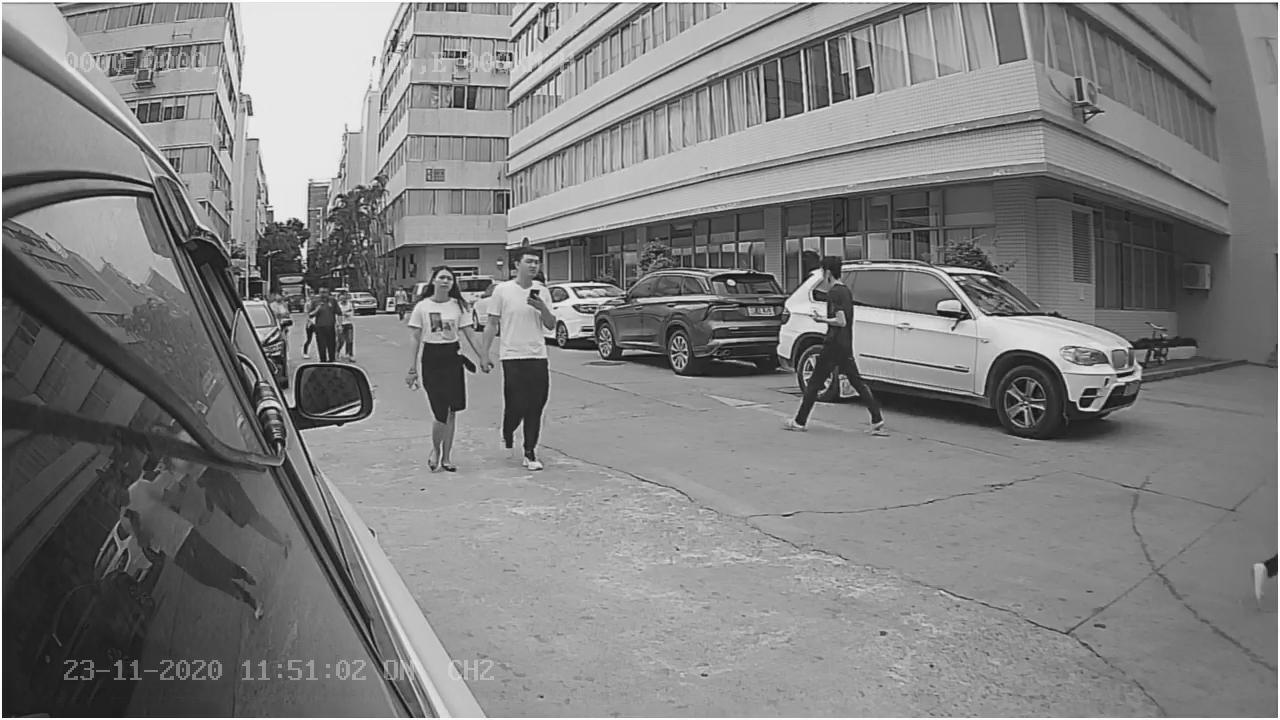person: (776, 252, 891, 439), (406, 259, 492, 473)
